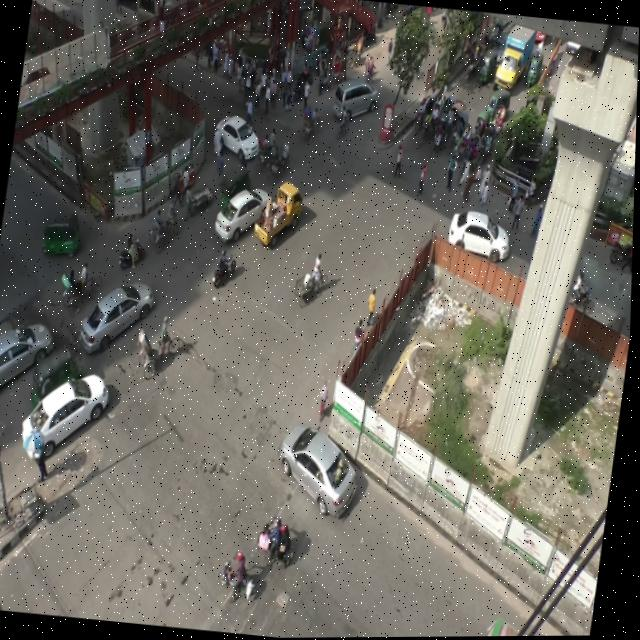cng: (28, 337, 82, 399), (40, 201, 85, 261), (219, 160, 251, 213), (521, 46, 548, 92), (486, 90, 515, 123), (476, 47, 497, 89)
rikshaw: (129, 314, 191, 385), (57, 264, 106, 314), (149, 195, 184, 256), (297, 103, 327, 147), (265, 144, 295, 181), (460, 135, 484, 180), (448, 111, 472, 155), (453, 124, 476, 168), (423, 101, 444, 146), (314, 57, 337, 94), (254, 134, 279, 166), (347, 31, 367, 70), (433, 115, 451, 156), (490, 105, 509, 139), (471, 115, 488, 150), (330, 53, 348, 84)
